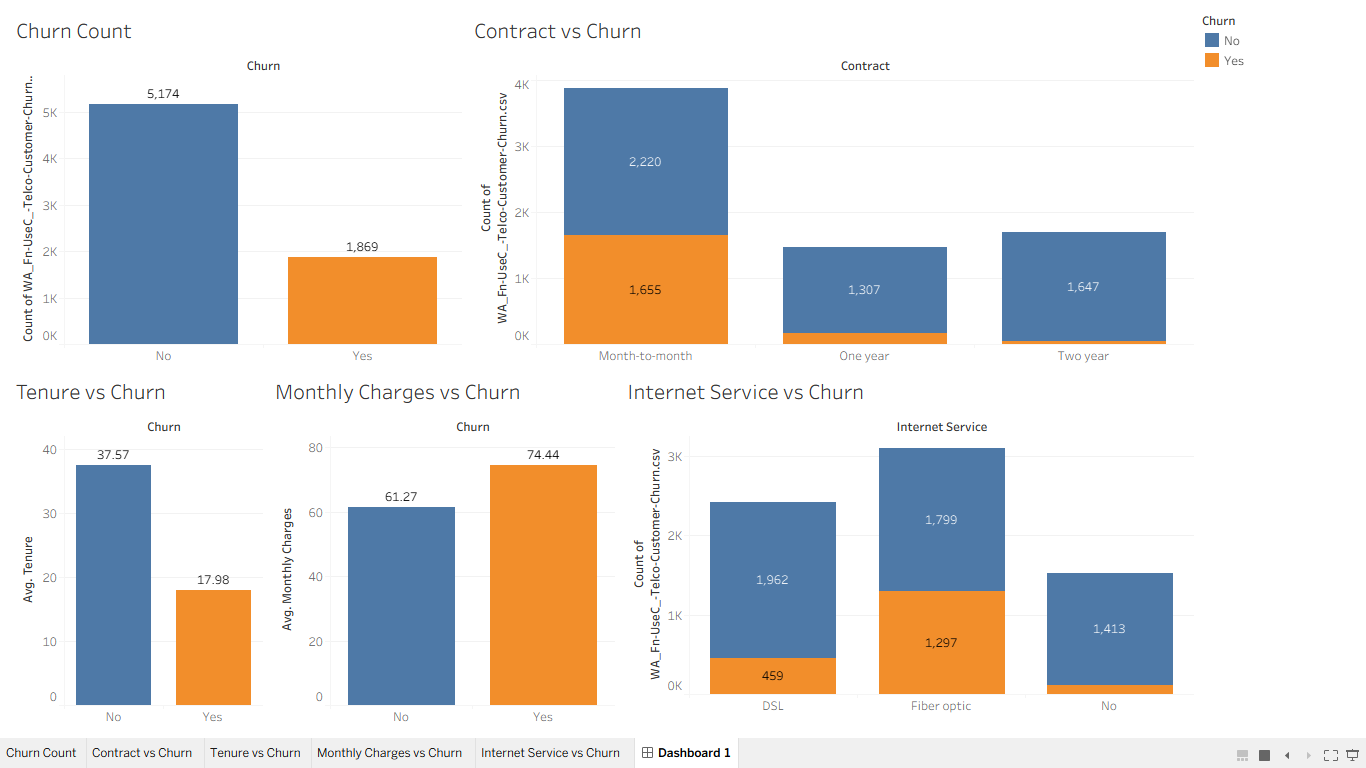

The dashboard page shown, as its layout file describes it:
{"tool":"tableau","page":{"name":"Dashboard 1","canvas":[1000,1000],"units":"permille","ordinal":0},"visuals":[{"type":"worksheet","title":"Churn Count","mark":"Automatic","rows":["WA_Fn-UseC_-Telco-Customer-Churn.csv_543F426657F5410E95787B1"],"cols":["Churn"],"box":[6.9,13.5,326.4,486.5]},{"type":"worksheet","title":"Contract vs Churn","mark":"Automatic","rows":["WA_Fn-UseC_-Telco-Customer-Churn.csv_543F426657F5410E95787B1"],"cols":["Contract"],"box":[333.3,13.5,521.2,486.5]},{"type":"legend","title":"Churn Count","param":"[federated.18ex5rh0vesz8516rnbp1093v5ii].[none:Churn:nk]","box":[854.5,13.5,138.5,111.5]},{"type":"worksheet","title":"Tenure vs Churn","mark":"Automatic","rows":["tenure"],"cols":["Churn"],"box":[6.9,500,184.4,486.5]},{"type":"worksheet","title":"Monthly Charges vs Churn","mark":"Automatic","rows":["MonthlyCharges"],"cols":["Churn"],"box":[191.3,500,251.1,486.5]},{"type":"worksheet","title":"Internet Service vs Churn","mark":"Automatic","rows":["WA_Fn-UseC_-Telco-Customer-Churn.csv_543F426657F5410E95787B1"],"cols":["InternetService"],"box":[442.4,500,412.2,486.5]}]}

Visuals, with their boxes on the dashboard's canvas, which has no fixed pixel size, in thousandths of its width and height (x1, y1, x2, y2). These are canvas units, not pixel positions in the 1366x768 screenshot, which may show the page scaled, cropped or inside an application window:
"Churn Count" worksheet: bbox=(7, 14, 333, 500)
"Contract vs Churn" worksheet: bbox=(333, 14, 854, 500)
"Churn Count" legend: bbox=(854, 14, 993, 125)
"Tenure vs Churn" worksheet: bbox=(7, 500, 191, 986)
"Monthly Charges vs Churn" worksheet: bbox=(191, 500, 442, 986)
"Internet Service vs Churn" worksheet: bbox=(442, 500, 855, 986)
